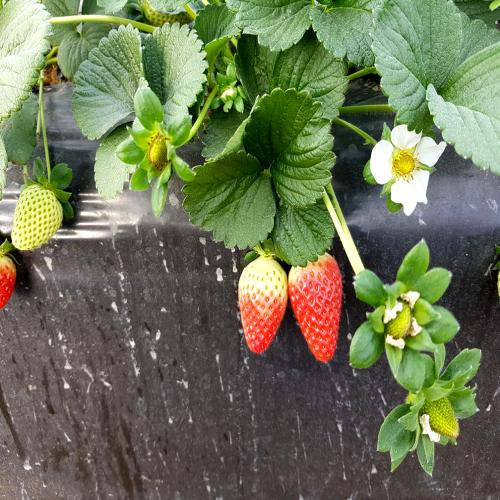partially-ripe: (236, 235, 287, 364)
ripe: (288, 240, 348, 382)
